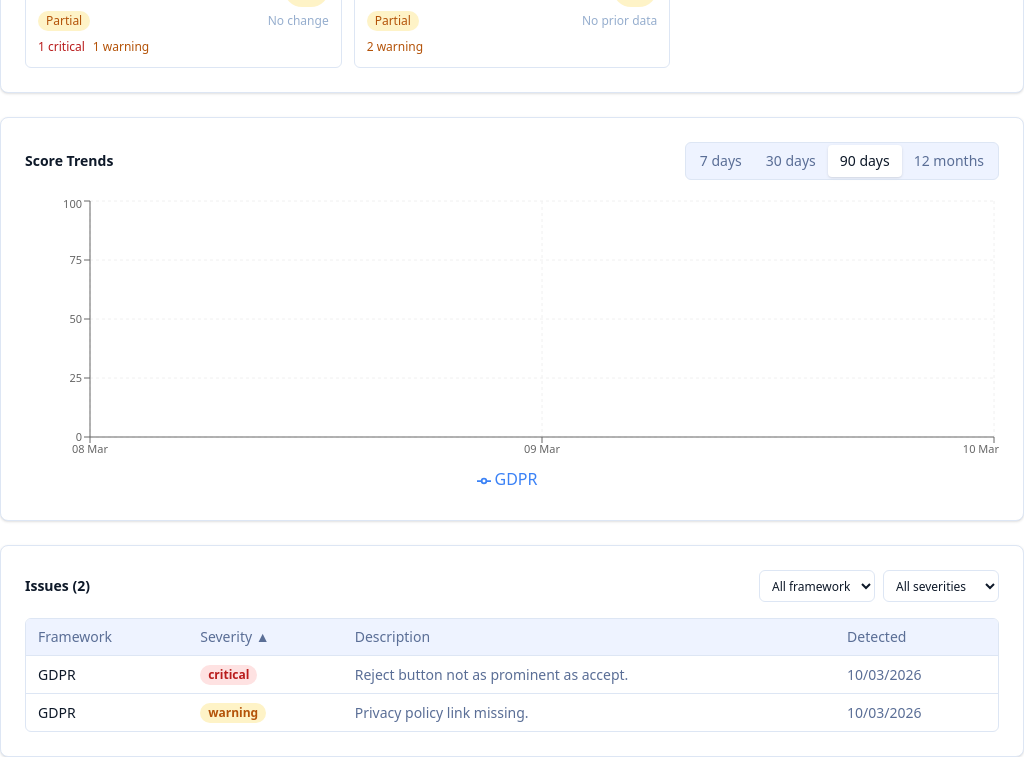
Test: ComplianceDashboardPage › expands issue recommendation on click
This screenshot has width=1024, height=757.
(page scrolled)
# Click the row to expand
Step 1. Click the text "Reject button not as prominent as accept." → (492,674), box [355, 664, 628, 684]
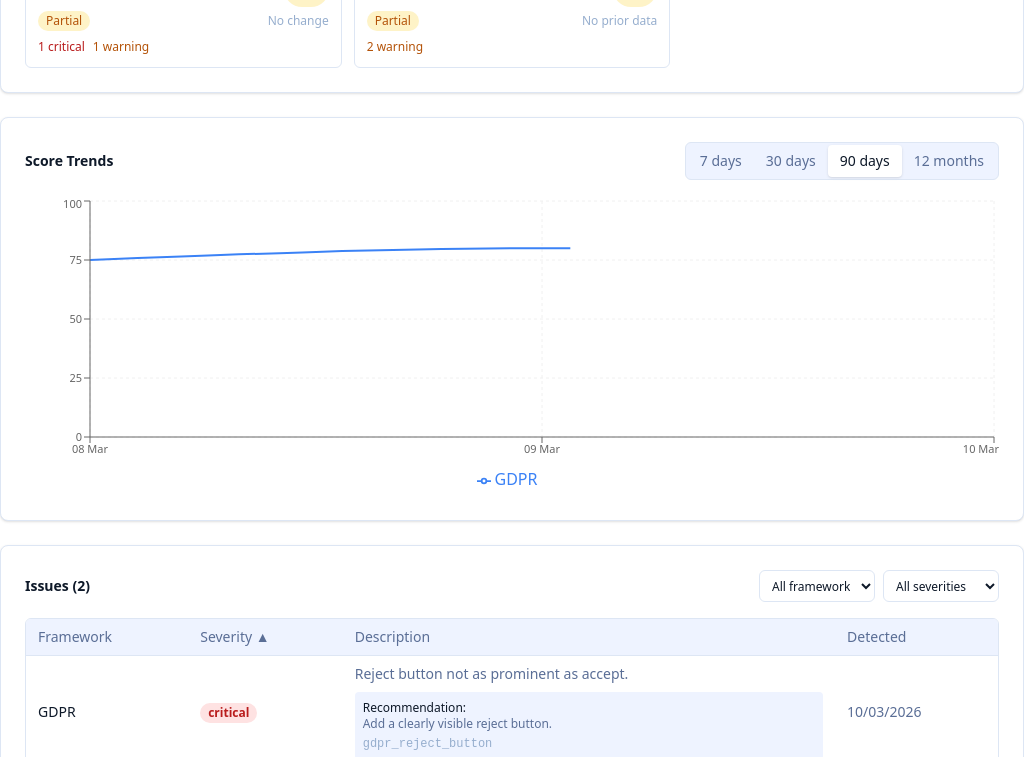
Now the text "Recommendation:" is shown, box [363, 699, 466, 716]
Now the text "Add a clearly visible reject button." is shown, box [363, 715, 552, 732]
